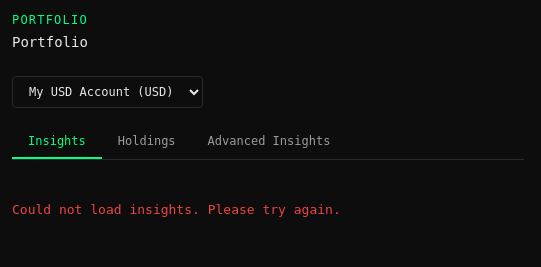
Test: PortfolioPage › PortfolioPage - 502 balance error on Holdings tab - renders balance unavailable message
What coordinates should you click on to do the following:
click the tab "Holdings"
I would click on:
 (147, 142)
Its box is [102, 125, 192, 159].
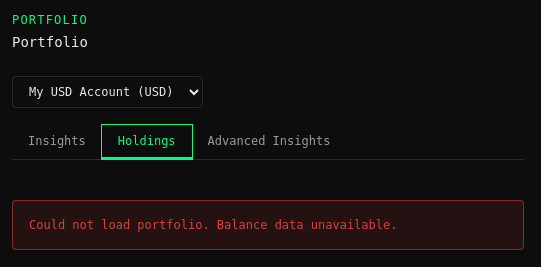
Check: the text "Could not load portfolio. Balance data unavailable." is shown, box [29, 218, 398, 232]
